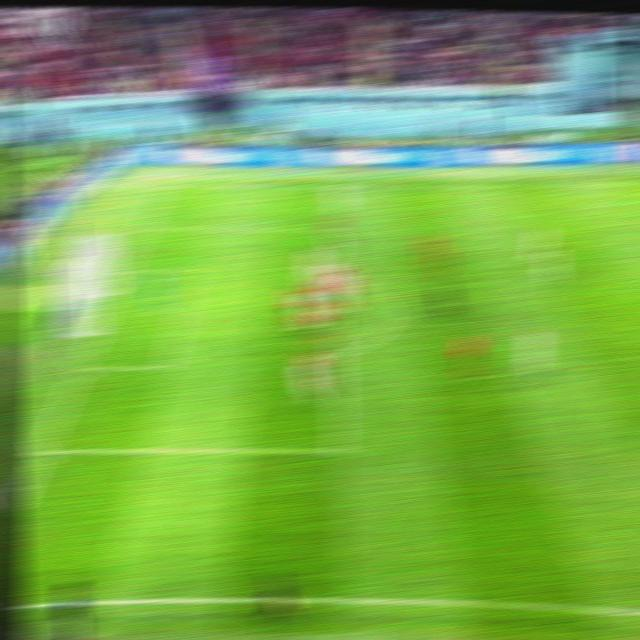bigarea_bottom_inner: (326, 442, 352, 461)
bigarea_bottom_outter: (25, 439, 57, 463)
bigarea_top_inner: (324, 227, 341, 237)
bigarea_top_outter: (133, 220, 157, 234)
bottom_arc_area_intersection: (326, 349, 349, 364)
corner: (153, 181, 173, 192)
smallarea_bottom_inner: (150, 353, 182, 379)
smallarea_bottom_outter: (66, 355, 94, 379)
smallarea_top_inner: (181, 261, 205, 283)
smallarea_top_outter: (111, 262, 137, 279)
